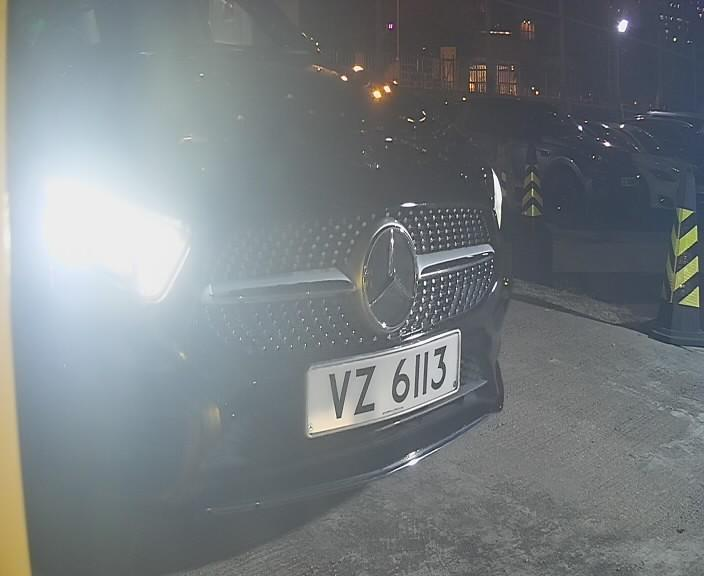privatecar: (16, 6, 516, 548)
